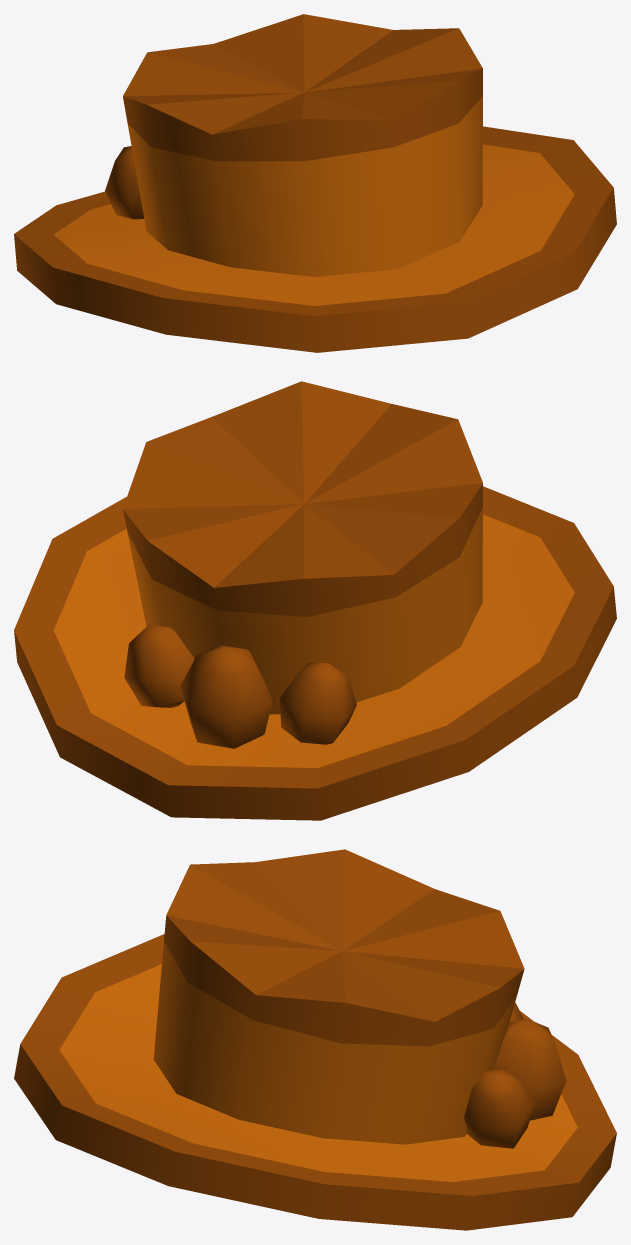
The model's file is hat_GoldenEggTier4.glb.
The picture shows the model from 3 angles, top to bottom: view 1: azimuth 30°, elevation 25°; view 2: azimuth 150°, elevation 25°; view 3: azimuth 270°, elevation 25°; orthographic projection.
Visible parts, largest first — view 1: hat_GoldenEggTier4; view 2: hat_GoldenEggTier4; view 3: hat_GoldenEggTier4.
Boxes of the visible parts, x1,y1,x2,y2 form: hat_GoldenEggTier4: [14, 14, 616, 352]; hat_GoldenEggTier4: [14, 381, 616, 820]; hat_GoldenEggTier4: [14, 849, 616, 1230].
Size of the model in its own units: 0.5892 by 0.285 by 0.5875.
